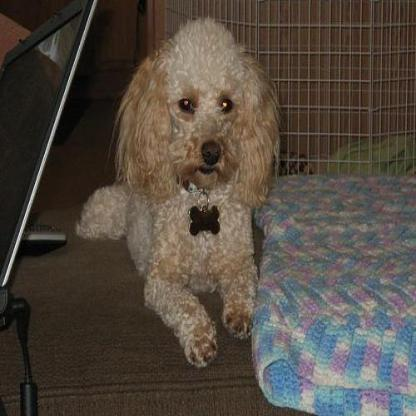toy_poodle: (77, 16, 282, 367)
